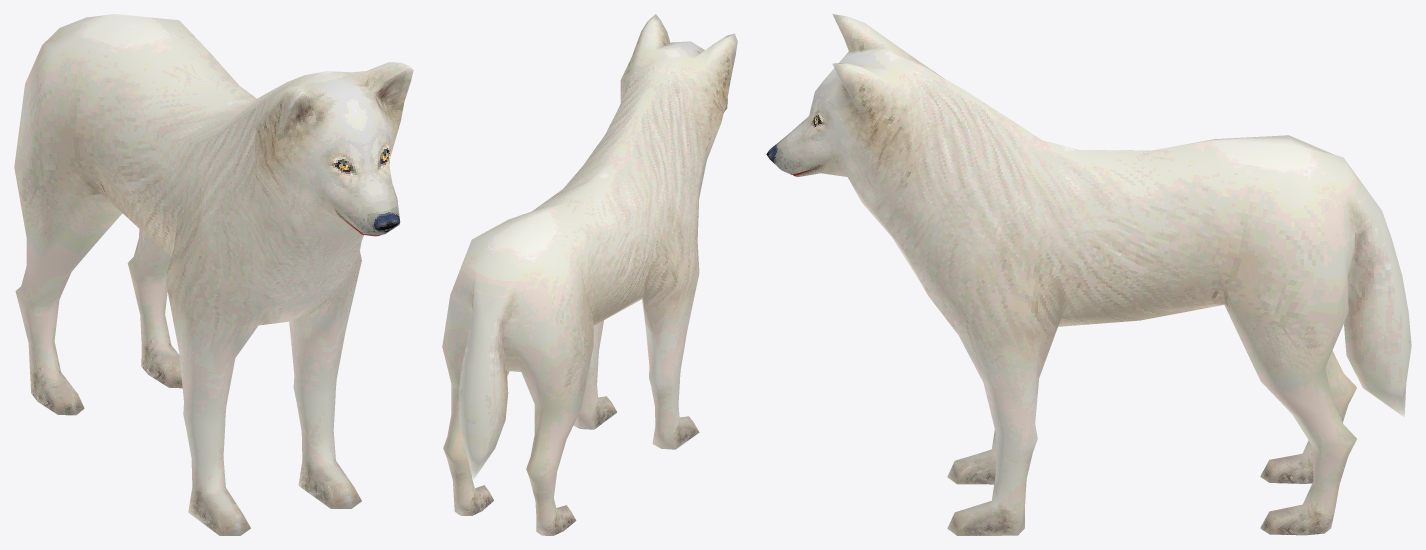
File: arctic_wolf_psx.glb
The picture shows the model from 3 angles, left to right: view 1: azimuth 30°, elevation 25°; view 2: azimuth 150°, elevation 25°; view 3: azimuth 270°, elevation 25°; orthographic projection. The views are drawn at different scales.
Parts seen in each view (by area): view 1: wolf; view 2: wolf; view 3: wolf.
Part boxes in pixels (x1=…): wolf: x1=14, y1=14, x2=413, y2=535; wolf: x1=442, y1=14, x2=737, y2=535; wolf: x1=766, y1=14, x2=1411, y2=535.
Bounding box in the file's own units: 0.4049 × 1.12 × 1.41.
1 material, 1 textured.
